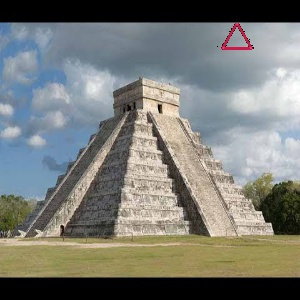triangle: (217, 22, 258, 51)
